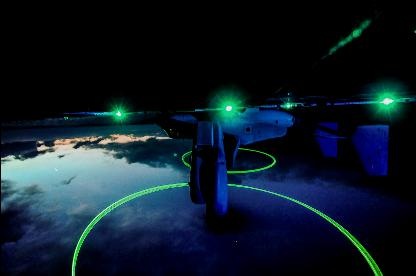Tornado: (71, 101, 391, 273)
